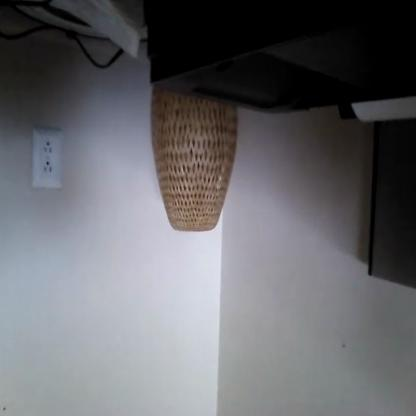OUTLET: (32, 132, 62, 190)
